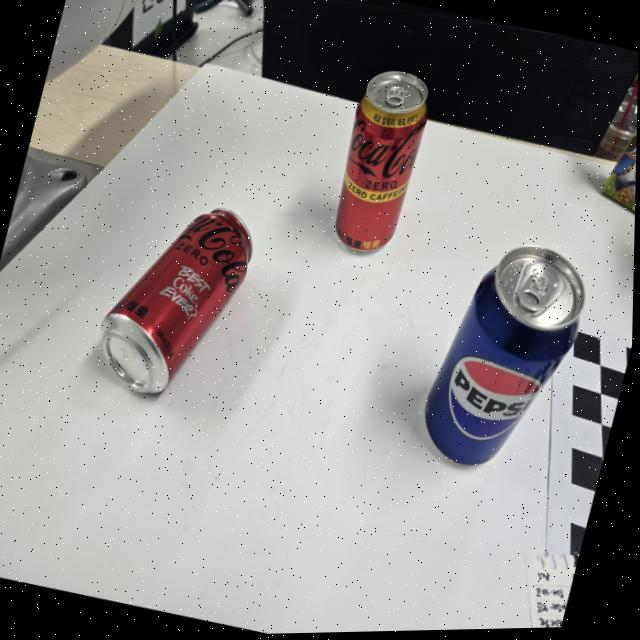can_coke_decaf: (333, 70, 427, 252)
can_coke_zero: (100, 206, 253, 395)
can_pepsi: (424, 243, 584, 466)
